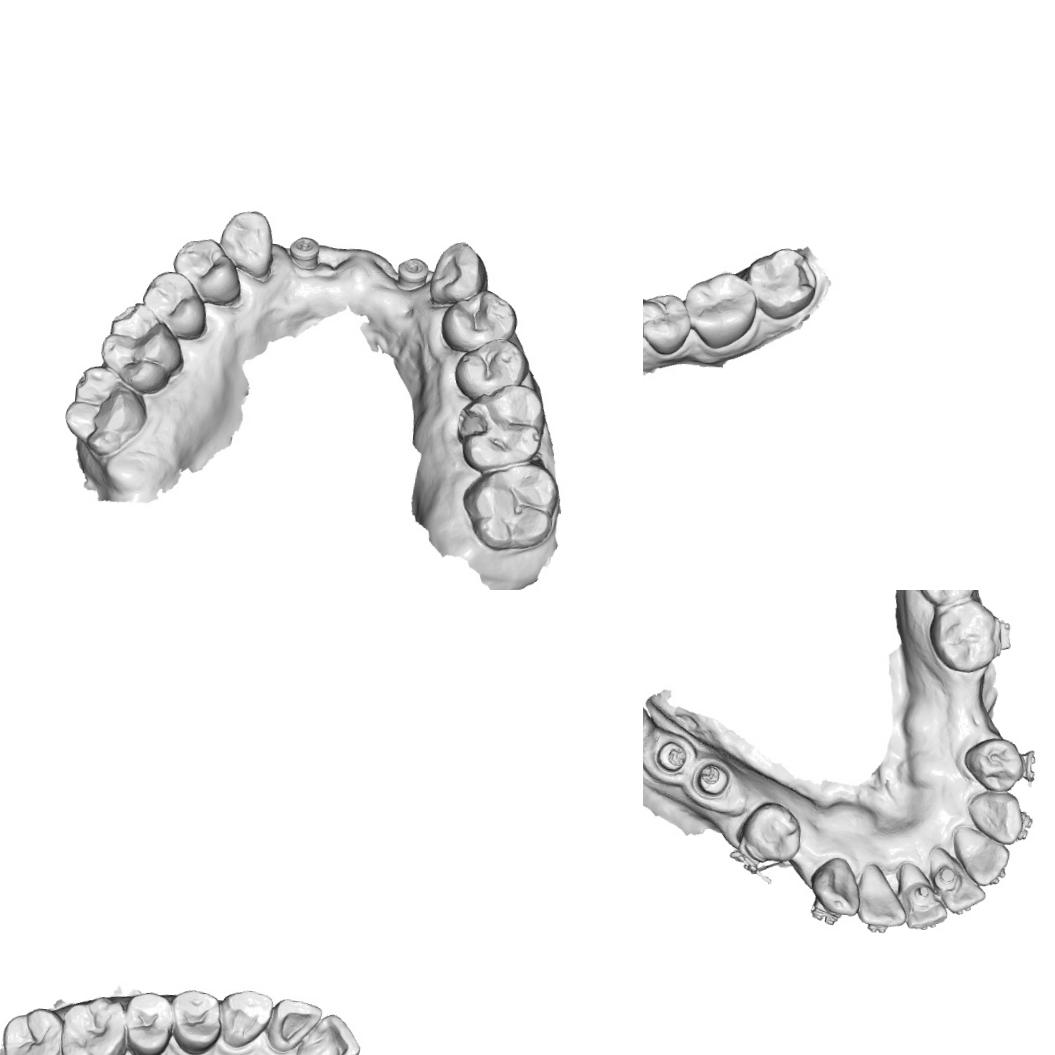abutment: (645, 733, 694, 778), (692, 758, 734, 807)
canine: (422, 236, 491, 310), (214, 206, 278, 282), (216, 985, 276, 1050), (805, 854, 862, 918), (964, 790, 1026, 847)
implant_minus: (393, 253, 429, 290), (287, 230, 320, 268)
incisor: (950, 821, 1013, 892), (926, 850, 989, 916), (856, 860, 910, 931), (264, 994, 324, 1055), (291, 1008, 365, 1055), (898, 867, 948, 931)
molar: (456, 458, 563, 557), (453, 379, 550, 478), (57, 361, 151, 458), (96, 297, 184, 400), (679, 268, 760, 352), (742, 243, 820, 323), (924, 595, 1000, 676), (56, 991, 131, 1055), (0, 1002, 70, 1055), (911, 590, 981, 609)
premolar: (436, 285, 519, 357), (450, 332, 534, 403), (138, 267, 214, 342), (167, 234, 242, 308), (738, 798, 807, 867), (959, 730, 1024, 796), (165, 985, 224, 1055), (121, 988, 176, 1055), (643, 289, 694, 357)
